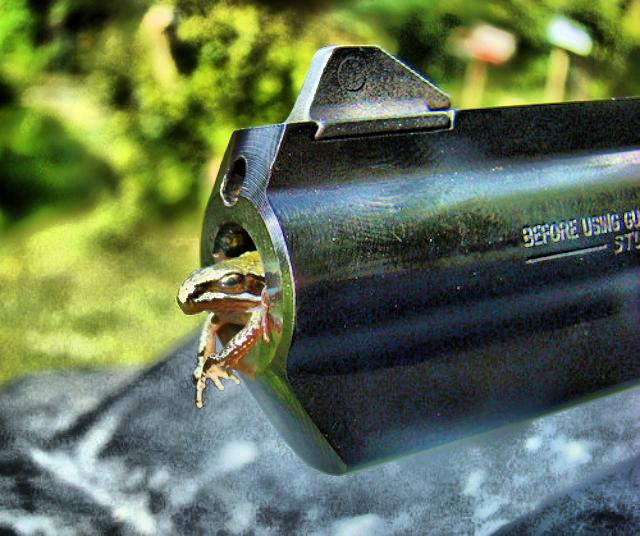pistol: (189, 32, 637, 474)
